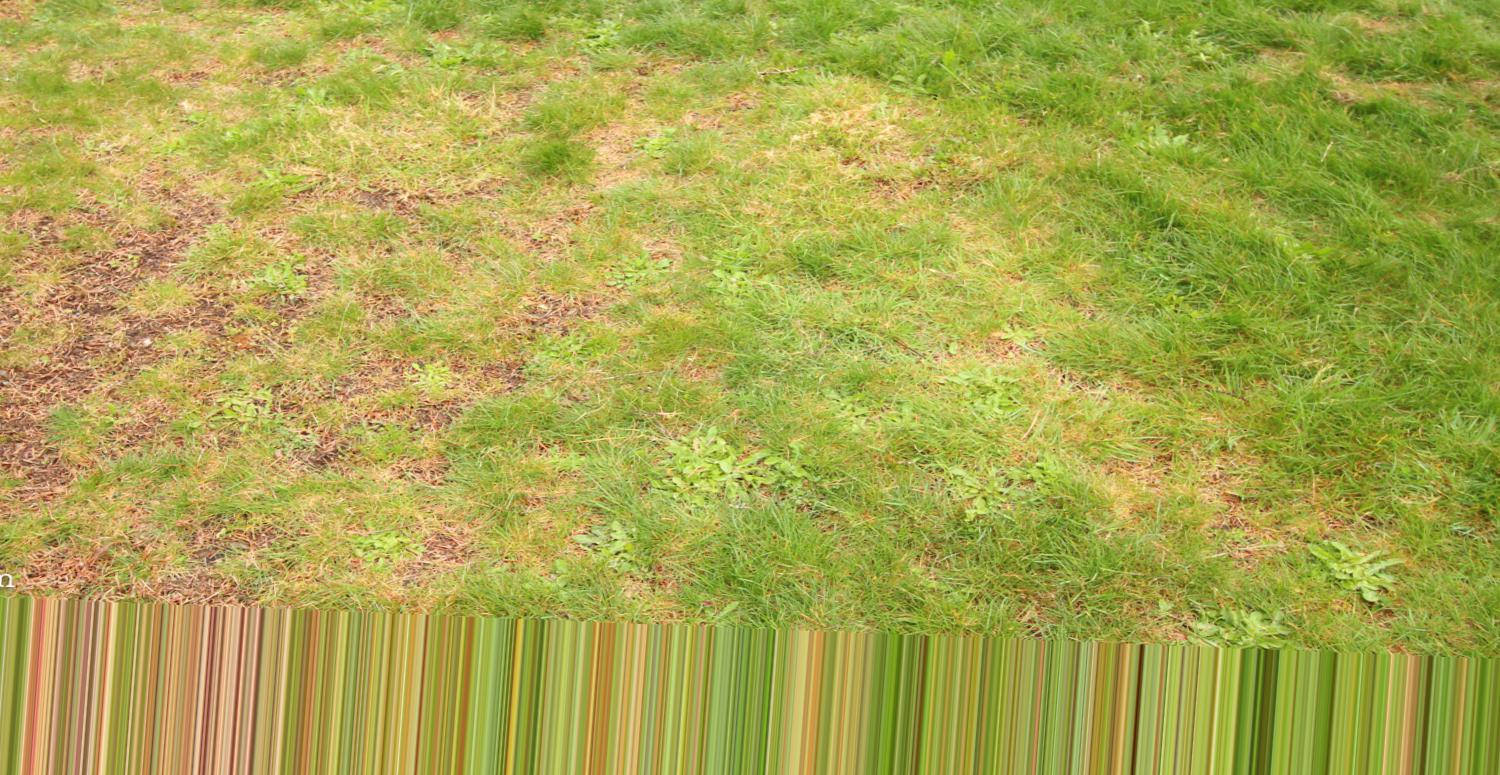patch: (50, 90, 247, 507), (290, 293, 481, 569), (285, 161, 556, 250)
